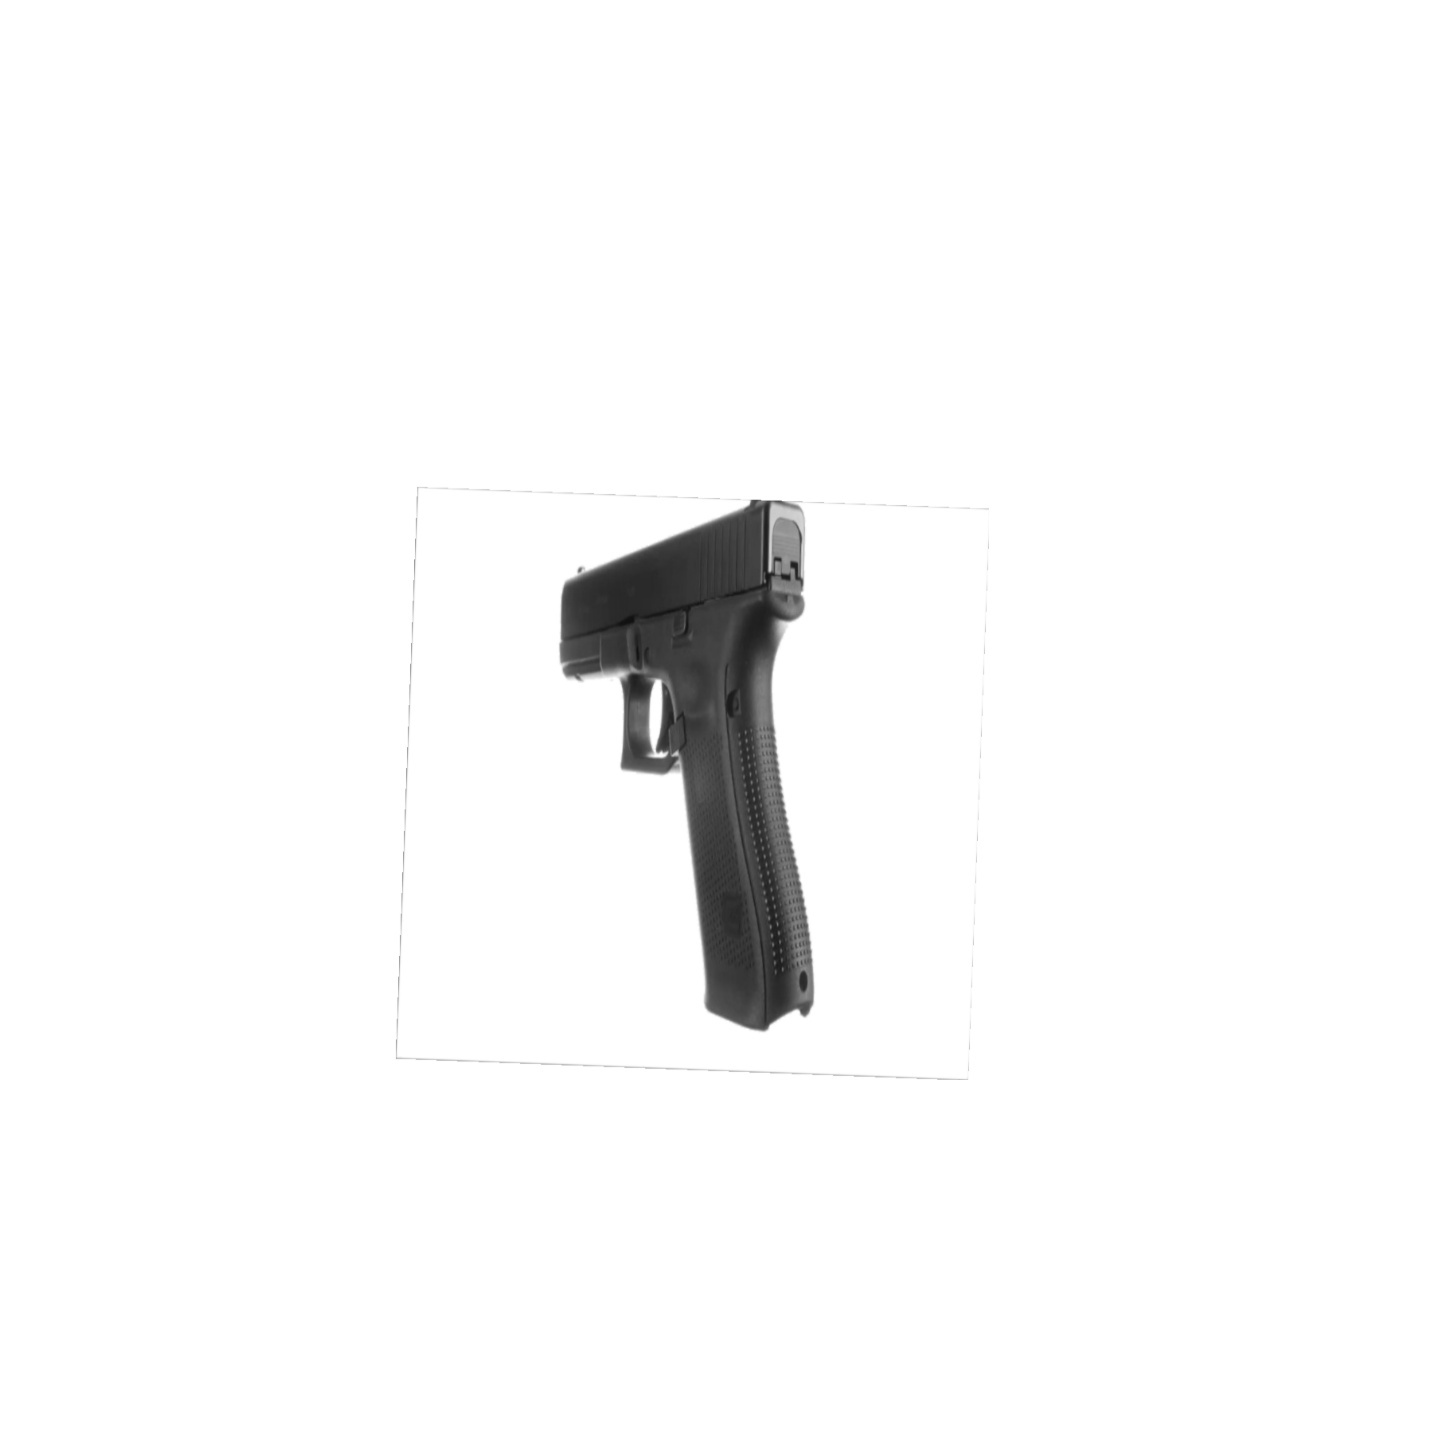gun: (537, 499, 861, 1040)
